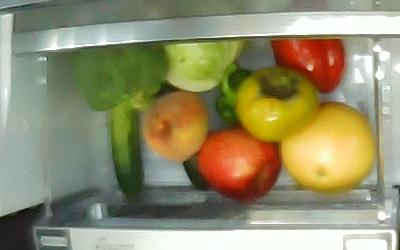apple: (197, 128, 282, 203)
broccoli: (71, 43, 168, 112)
cucumber: (109, 98, 142, 199)
grapefruit: (280, 102, 376, 190)
lettuce: (163, 37, 247, 91)
paprika: (270, 35, 345, 92), (215, 62, 255, 127)
peach: (140, 91, 208, 160)
persimmon: (236, 66, 319, 142)
